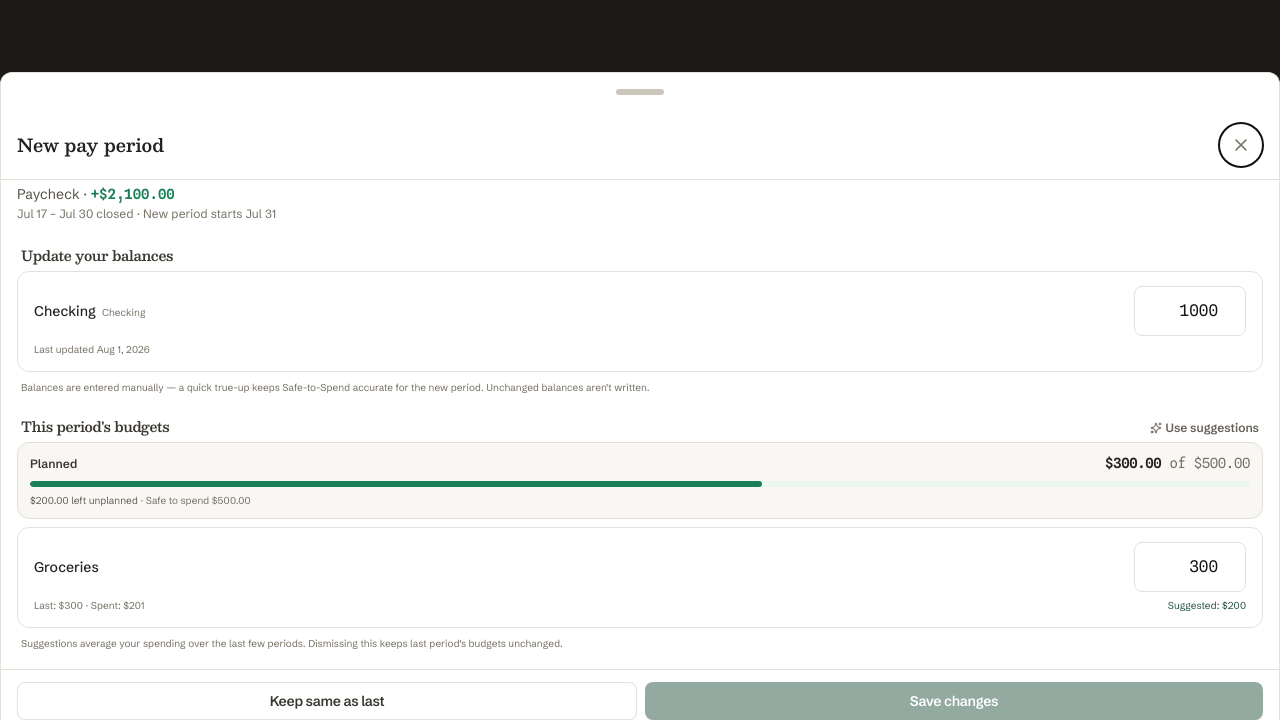
Test: PayPeriodCeremonyDrawer — existing behaviour › offers the 3-period-average suggestion and applies it to the field
The image size is (1280, 720).
(page scrolled)
Click the button "Suggested: $200": (1207, 606) [1168, 598, 1246, 613]
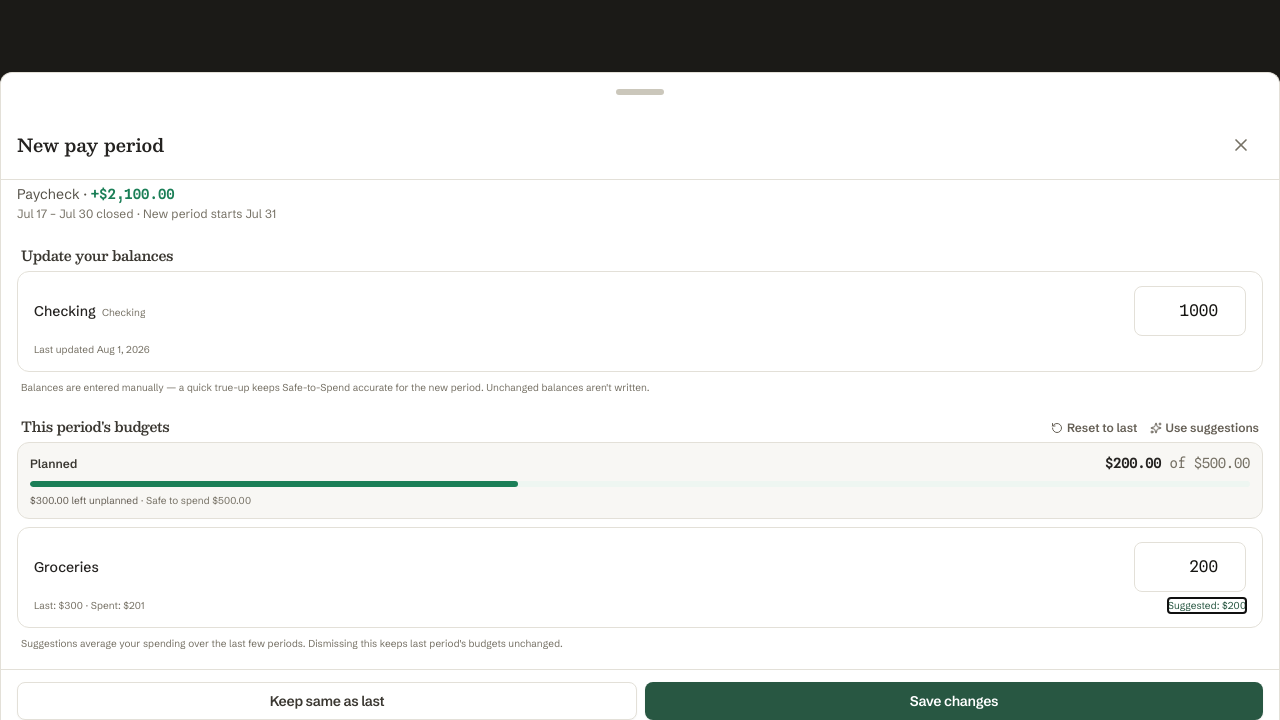
Now the number field named "Groceries budget for this period" holds "200", box [1134, 542, 1246, 592]
